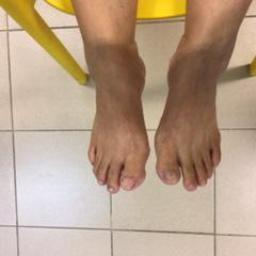Dorsal View -Both Feet-: (38, 4, 253, 196)
